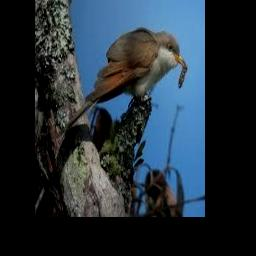Cuckoo: (65, 28, 185, 132)
